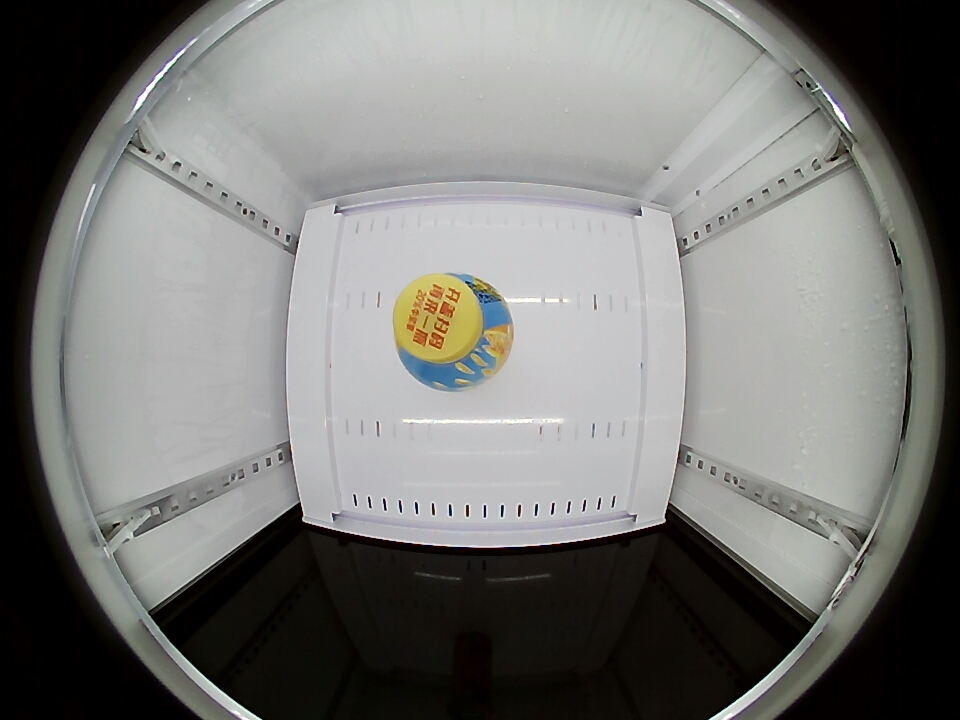guolicheng: (393, 273, 514, 390)
